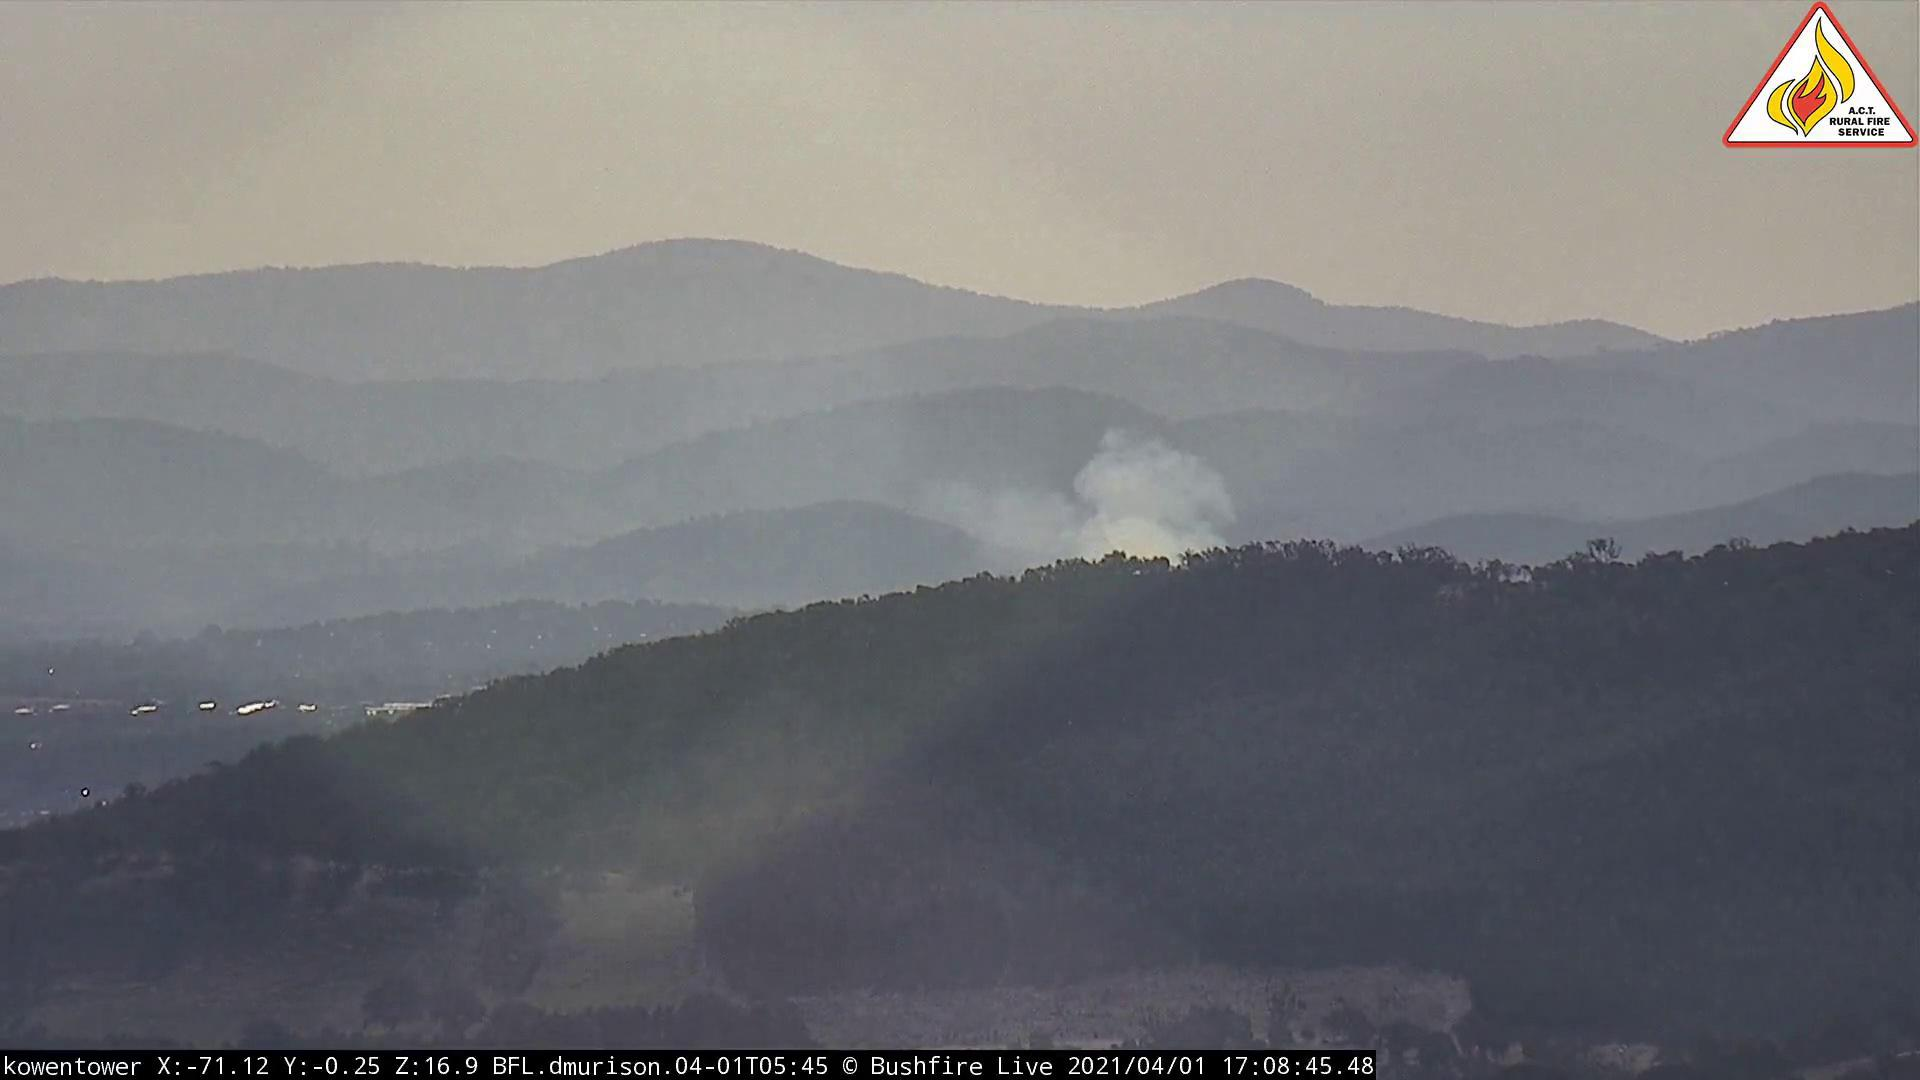Smoke: (928, 401, 1258, 597)
